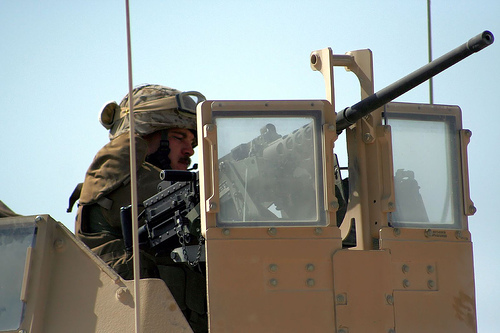rifle: (195, 29, 489, 226)
